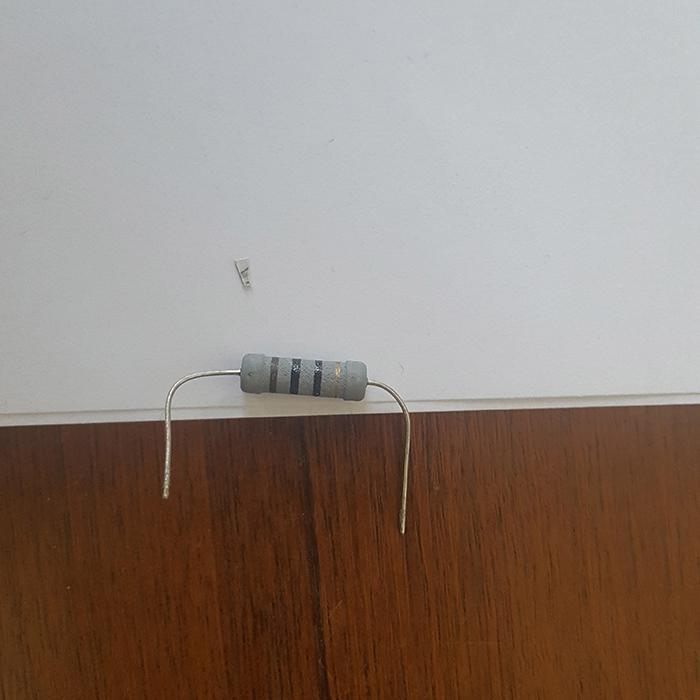resistor: (239, 352, 370, 401)
